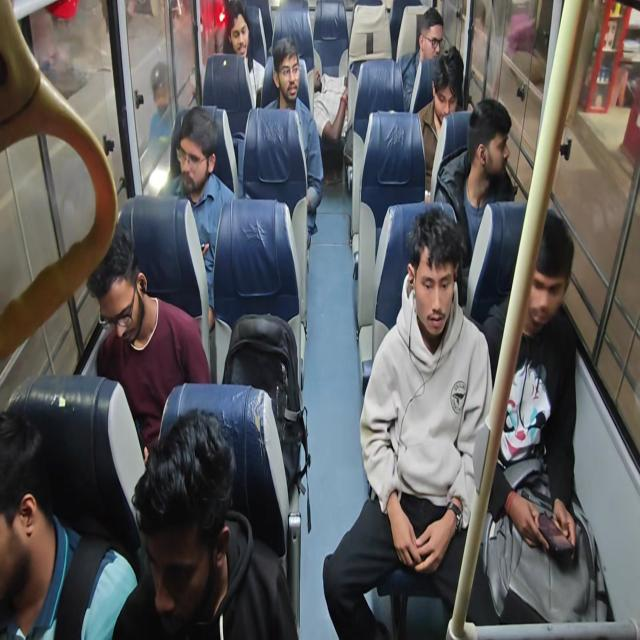person: (322, 206, 493, 638), (475, 207, 599, 625), (112, 408, 299, 638), (0, 0, 117, 362), (0, 408, 138, 639), (86, 225, 212, 464), (158, 105, 236, 330), (433, 97, 517, 304), (262, 36, 324, 240), (416, 45, 465, 197), (138, 61, 184, 193), (221, 0, 265, 109), (398, 6, 443, 112), (312, 68, 348, 142), (148, 61, 173, 141)
